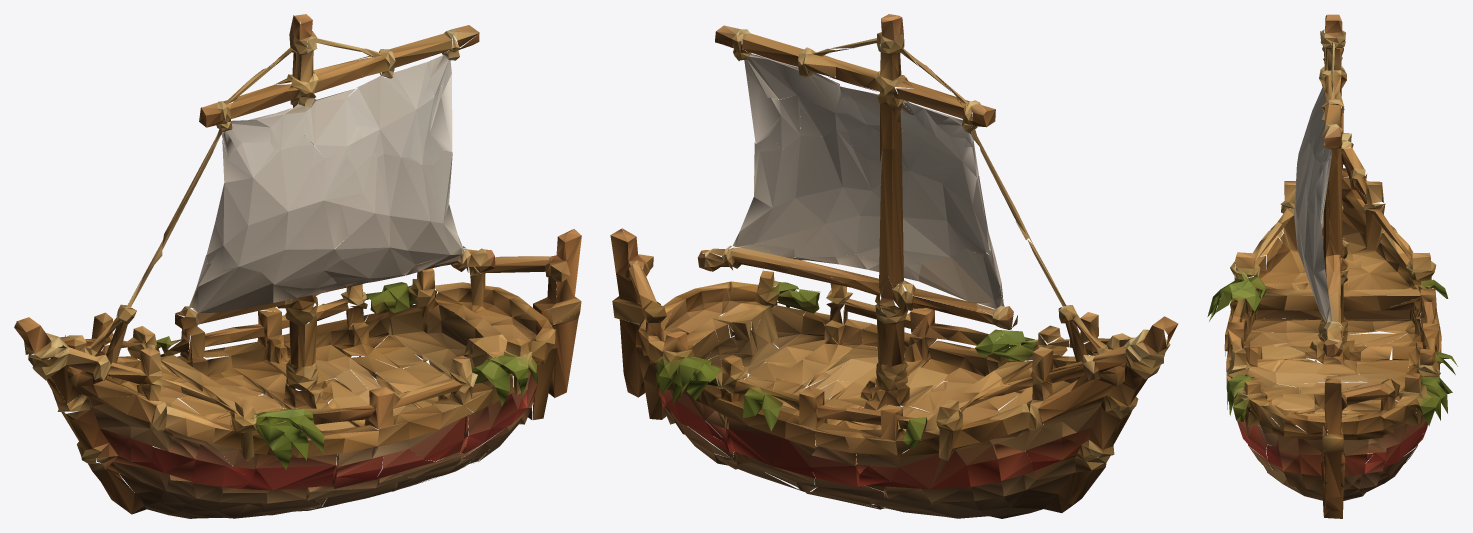
The model's file is building-signalTower-ship.glb.
3 renders of one model, left to right at view 1: azimuth 30°, elevation 25°; view 2: azimuth 150°, elevation 25°; view 3: azimuth 270°, elevation 25°, orthographic. The views are drawn at different scales.
Parts seen in each view (by area): view 1: 0_signalTower-ship; view 2: 0_signalTower-ship; view 3: 0_signalTower-ship.
Part boxes in pixels (bbox=[...]): 0_signalTower-ship: bbox=[14, 14, 581, 518]; 0_signalTower-ship: bbox=[610, 14, 1178, 518]; 0_signalTower-ship: bbox=[1207, 14, 1457, 518].
Size of the model in its own units: 7.68 by 6.23 by 3.4.
